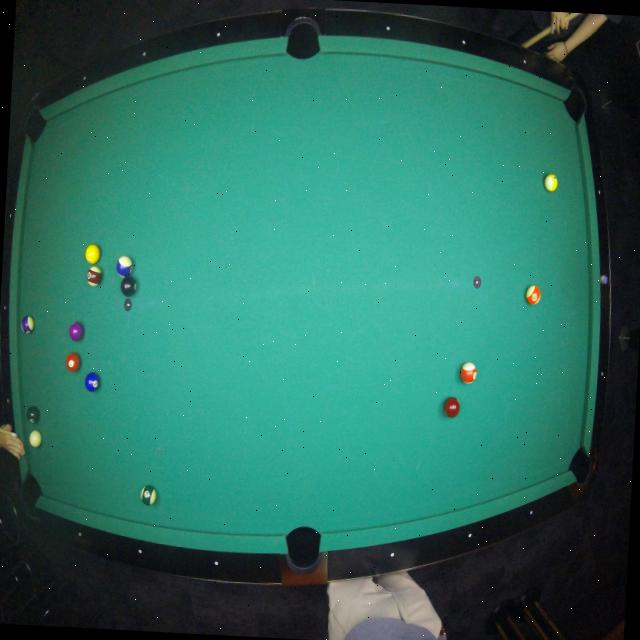cue ball: (28, 427, 44, 449)
other: (454, 360, 482, 390), (522, 282, 544, 308), (117, 274, 139, 300), (137, 483, 158, 509), (440, 396, 460, 421), (541, 172, 561, 195), (115, 254, 133, 278), (86, 265, 103, 289), (84, 243, 102, 265), (66, 352, 82, 372), (84, 372, 100, 392), (69, 321, 84, 342), (21, 314, 35, 335), (26, 405, 40, 425)
